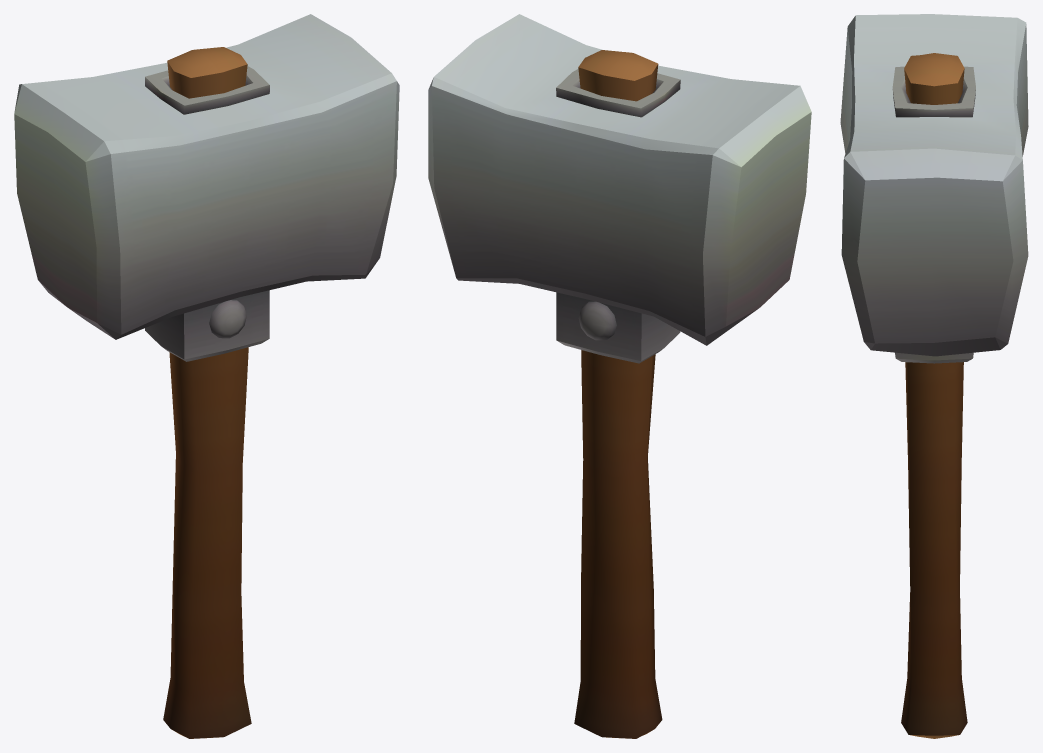
File: Hammer_03.glb
The picture shows the model from 3 angles, left to right: view 1: azimuth 30°, elevation 25°; view 2: azimuth 150°, elevation 25°; view 3: azimuth 270°, elevation 25°; orthographic projection.
Parts seen in each view (by area): view 1: Hammer_03; view 2: Hammer_03; view 3: Hammer_03.
Part boxes in pixels (bbox=[...]): Hammer_03: bbox=[14, 14, 399, 738]; Hammer_03: bbox=[428, 14, 811, 738]; Hammer_03: bbox=[840, 14, 1028, 738].
Size of the model in its own units: 0.5089 by 1.03 by 0.263.
Materials: 1 (1 with a texture image).
